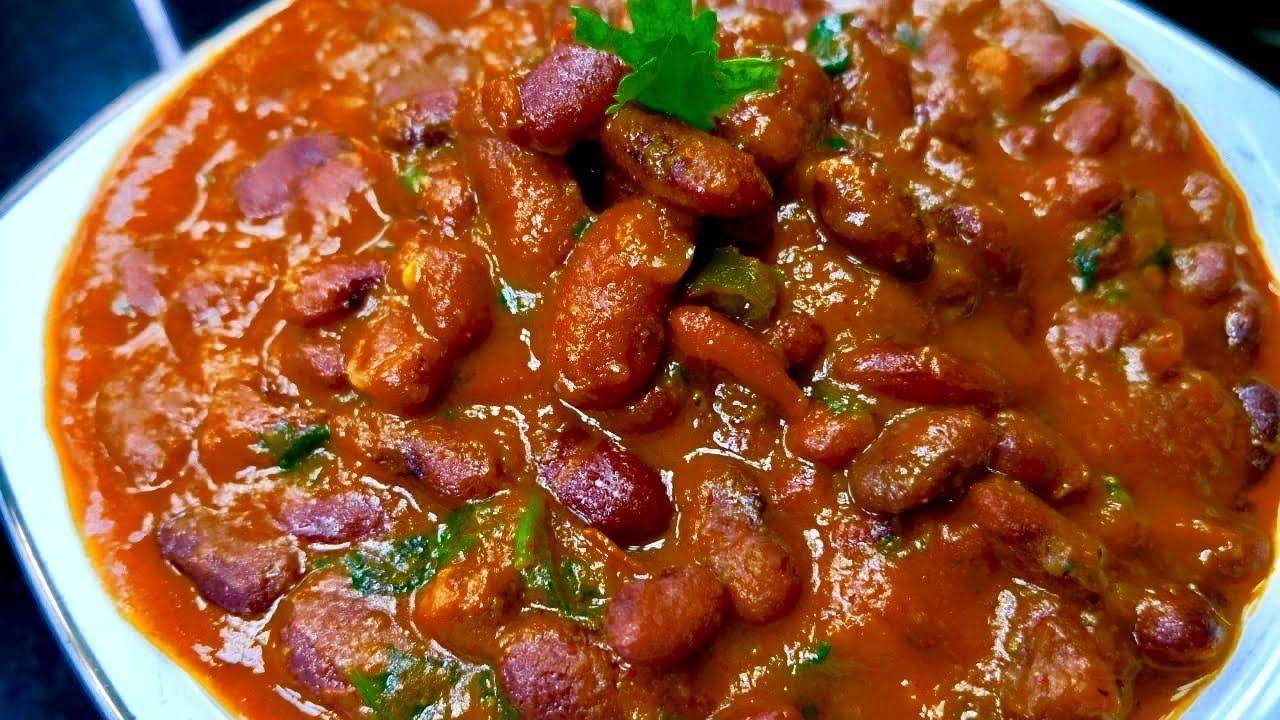RajmaCurry: (54, 0, 1278, 720)
